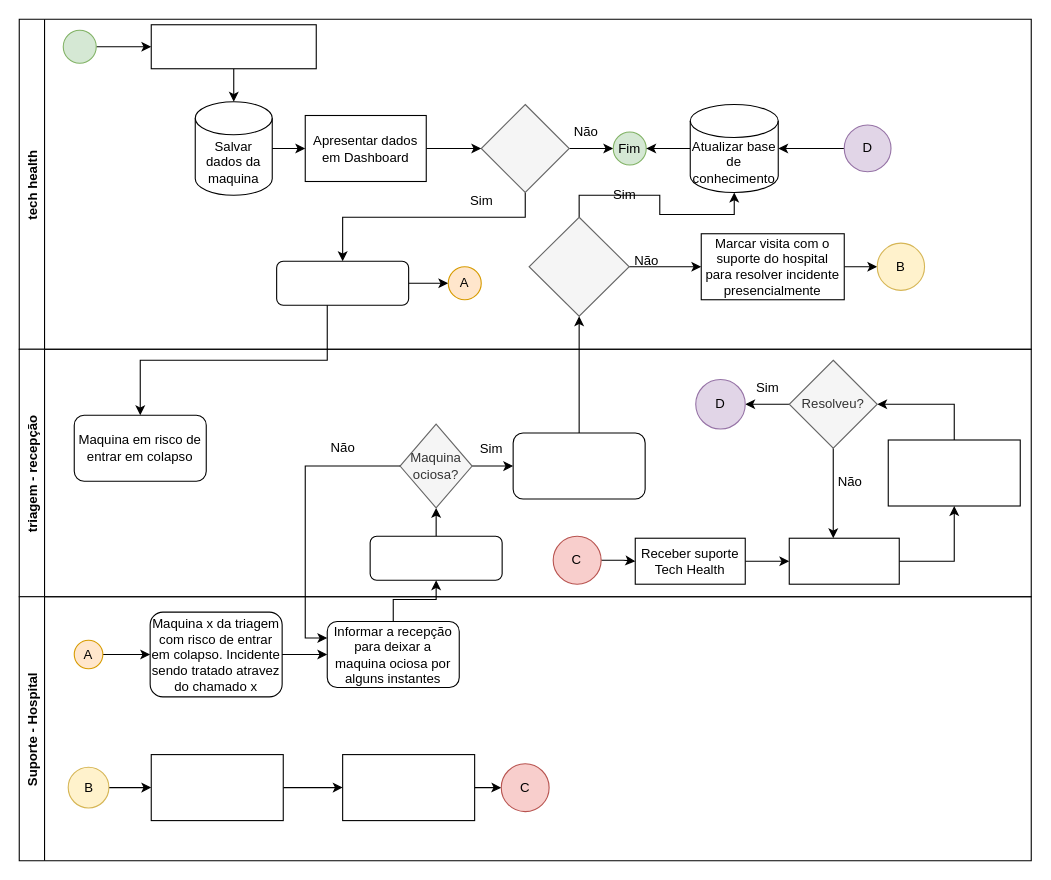
Image size: 1051x880. Some labels were removed from this diagram. Each missing label, with the centre of its shape:
Analisar maquina invalida: point 843,560
Atuar no incidente: point 953,472
Comunicar a recepção do hospital: point 408,787
Disponibilidade para o suporte atuar no incidente.: point 578,465
Incidente resolvido?: point 578,266
Informar a melhor data para a visita: point 216,787
Informar suporte e recepção: point 342,282
Inicio: point 79,46
Monitorar máquina remotamente atraves API Tech Health: point 233,46
Notificação do suporte: point 435,557
Risco de travar: point 524,148
